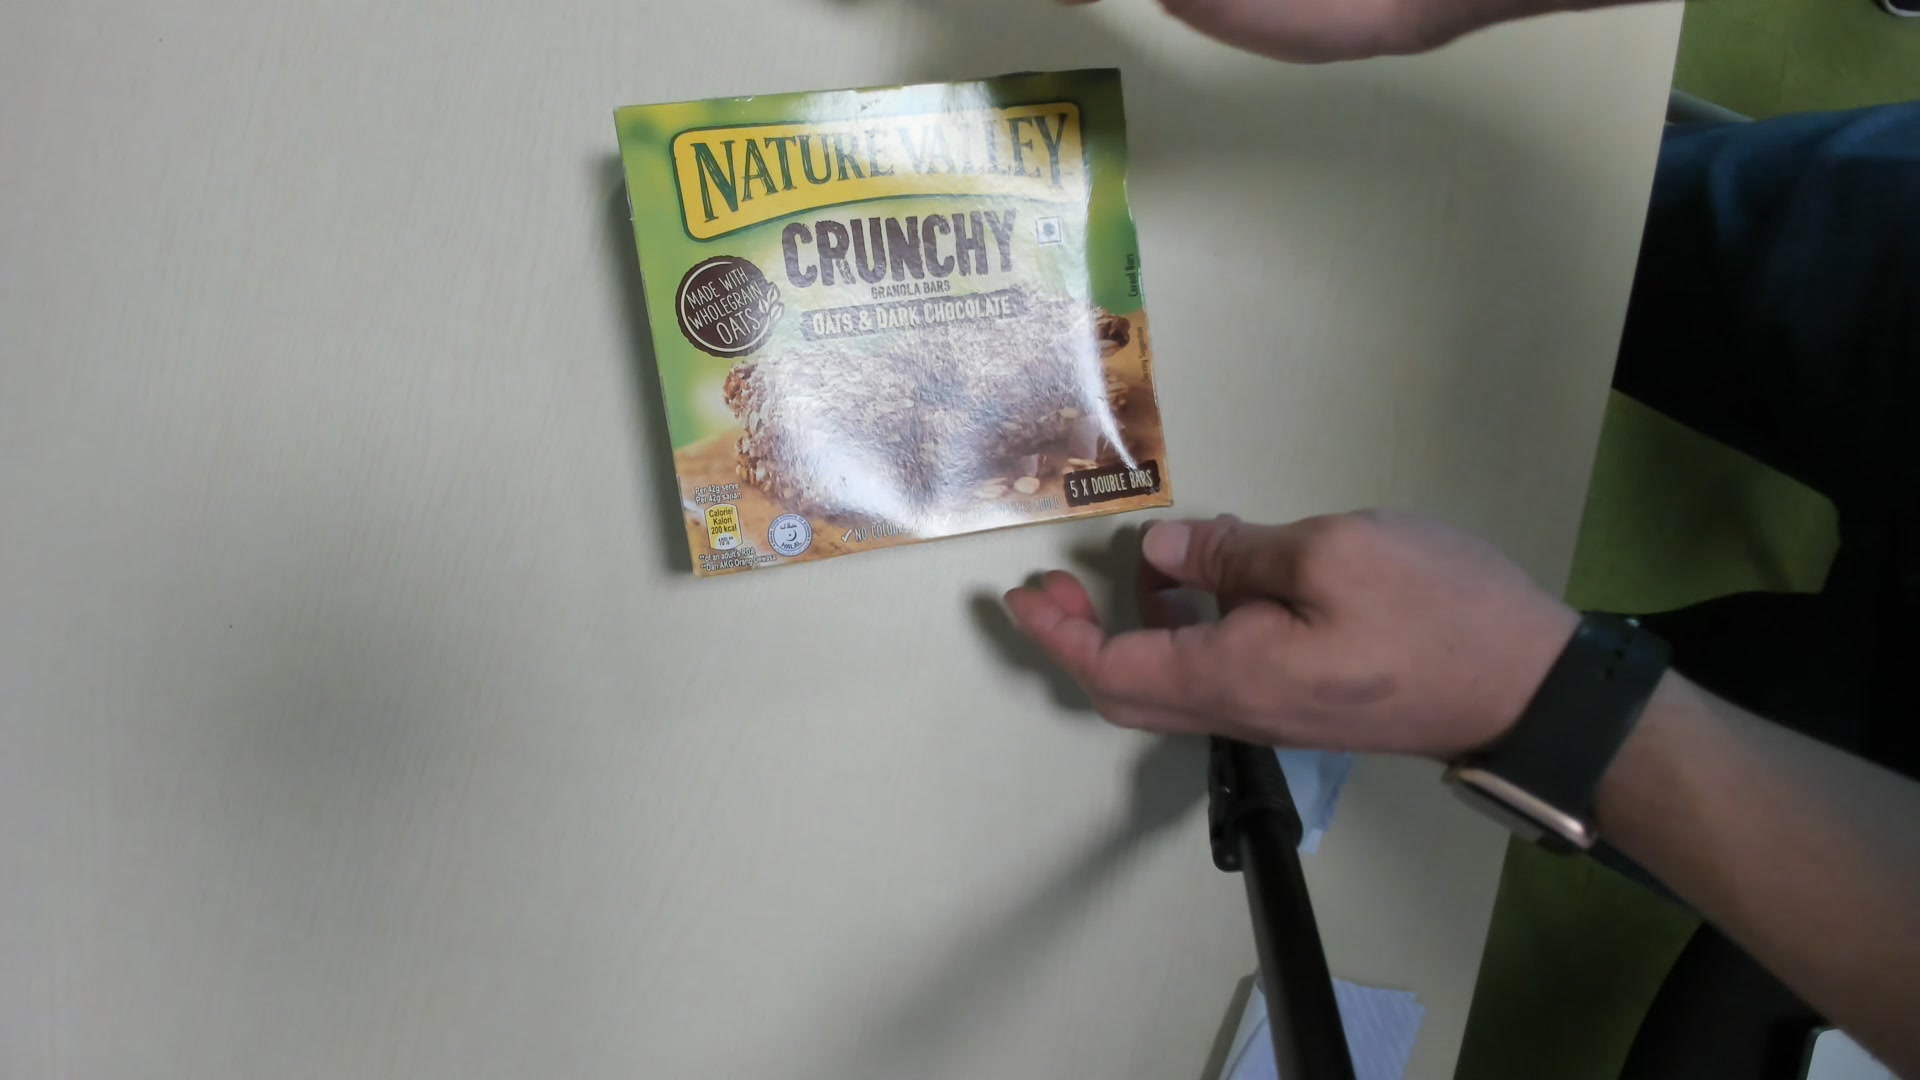SweetsChocolatesOthers_200-299g_Halal_Nonhealthy: (618, 75, 1182, 589)
